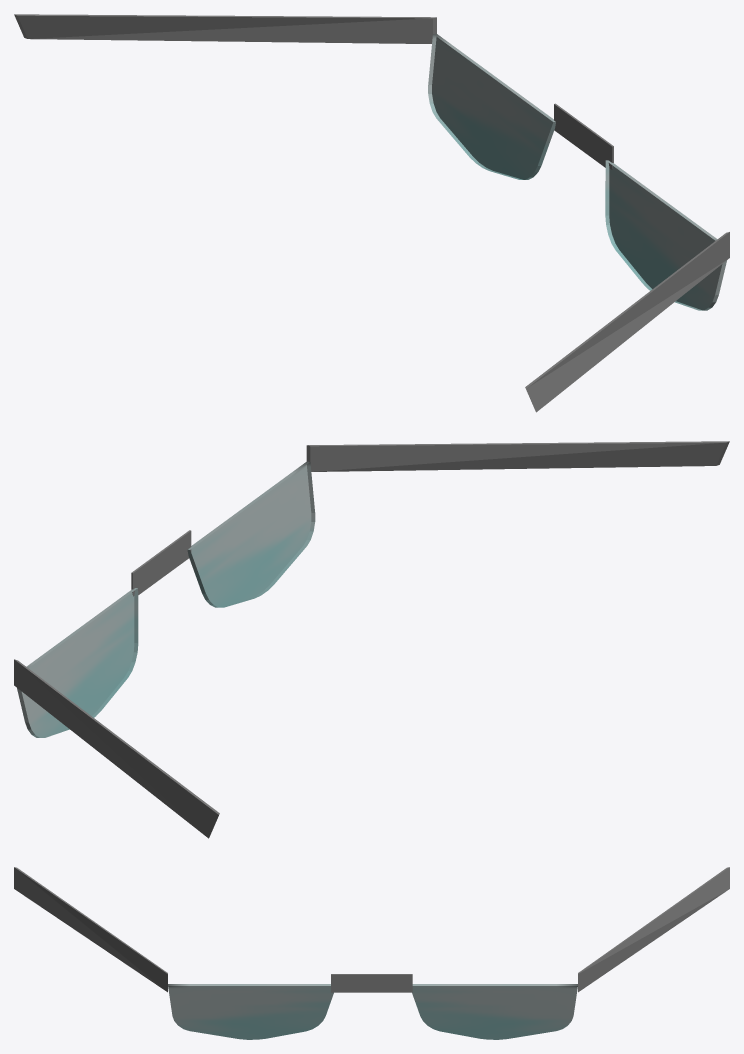
File: human2g5.obj
3 views of the same model, one above another, from view 1: azimuth 30°, elevation 25°; view 2: azimuth 150°, elevation 25°; view 3: azimuth 270°, elevation 25° (orthographic). The views are drawn at different scales.
Parts seen in each view (by area): view 1: ColobotMesh_1.001_ColobotMesh_.001, ColobotMesh_1_ColobotMesh_; view 2: ColobotMesh_1.001_ColobotMesh_.001, ColobotMesh_1_ColobotMesh_; view 3: ColobotMesh_1.001_ColobotMesh_.001, ColobotMesh_1_ColobotMesh_.
Part boxes in pixels (box(x1,y1,x2,y2)): ColobotMesh_1.001_ColobotMesh_.001: box(428, 33, 726, 310); ColobotMesh_1_ColobotMesh_: box(14, 14, 729, 412); ColobotMesh_1.001_ColobotMesh_.001: box(17, 461, 315, 737); ColobotMesh_1_ColobotMesh_: box(14, 441, 729, 838); ColobotMesh_1.001_ColobotMesh_.001: box(168, 984, 577, 1039); ColobotMesh_1_ColobotMesh_: box(14, 867, 729, 992).
Bounding box in the file's own units: 0.3621 × 0.1106 × 1.02.
